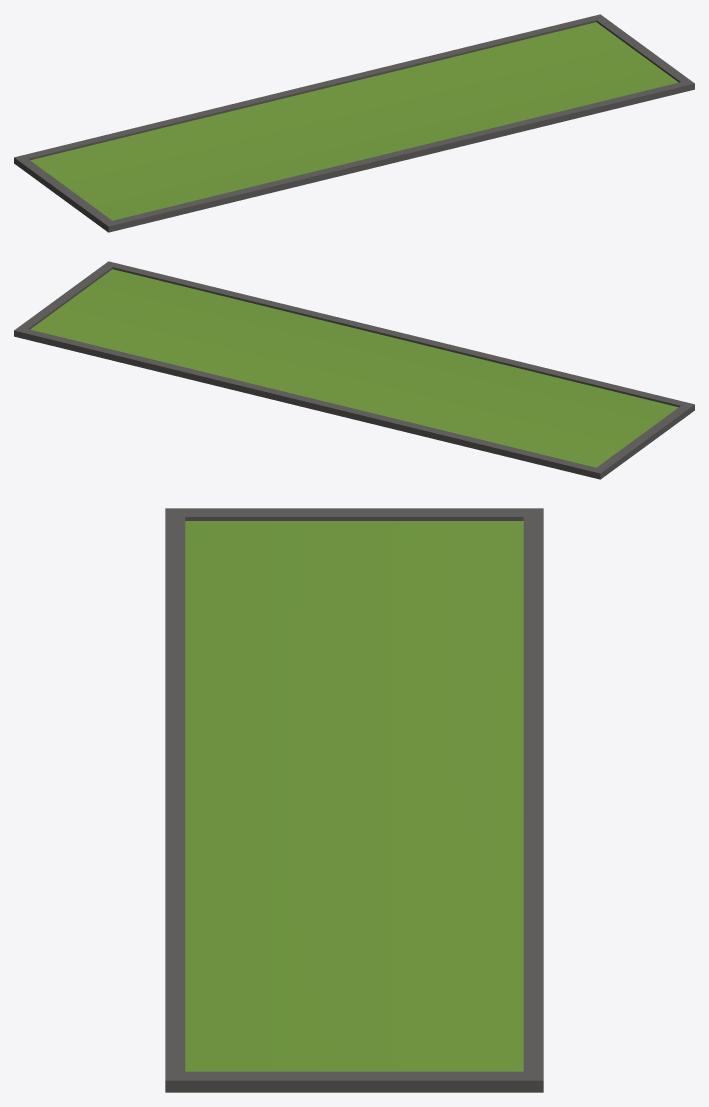
The model's file is SM_Floor_Garden_02.fbx.
The picture shows the model from 3 angles, top to bottom: view 1: azimuth 30°, elevation 25°; view 2: azimuth 150°, elevation 25°; view 3: azimuth 270°, elevation 25°; orthographic projection. The views are drawn at different scales.
Parts seen in each view (by area): view 1: SM_Floor_Garden_02; view 2: SM_Floor_Garden_02; view 3: SM_Floor_Garden_02.
Boxes of the visible parts, x1=… form: SM_Floor_Garden_02: x1=14, y1=14, x2=694, y2=232; SM_Floor_Garden_02: x1=14, y1=261, x2=694, y2=479; SM_Floor_Garden_02: x1=165, y1=508, x2=543, y2=1092.
Size of the model in its own units: 7.56 by 0.075 by 2.11.
